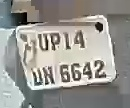1: (62, 33, 74, 52)
2: (94, 59, 108, 82)
4: (74, 30, 86, 51), (81, 61, 94, 80)
6: (59, 64, 71, 84), (71, 62, 82, 82)
D: (30, 65, 43, 88)
N: (42, 66, 55, 84)
P: (50, 31, 62, 53)
U: (35, 31, 50, 52)
